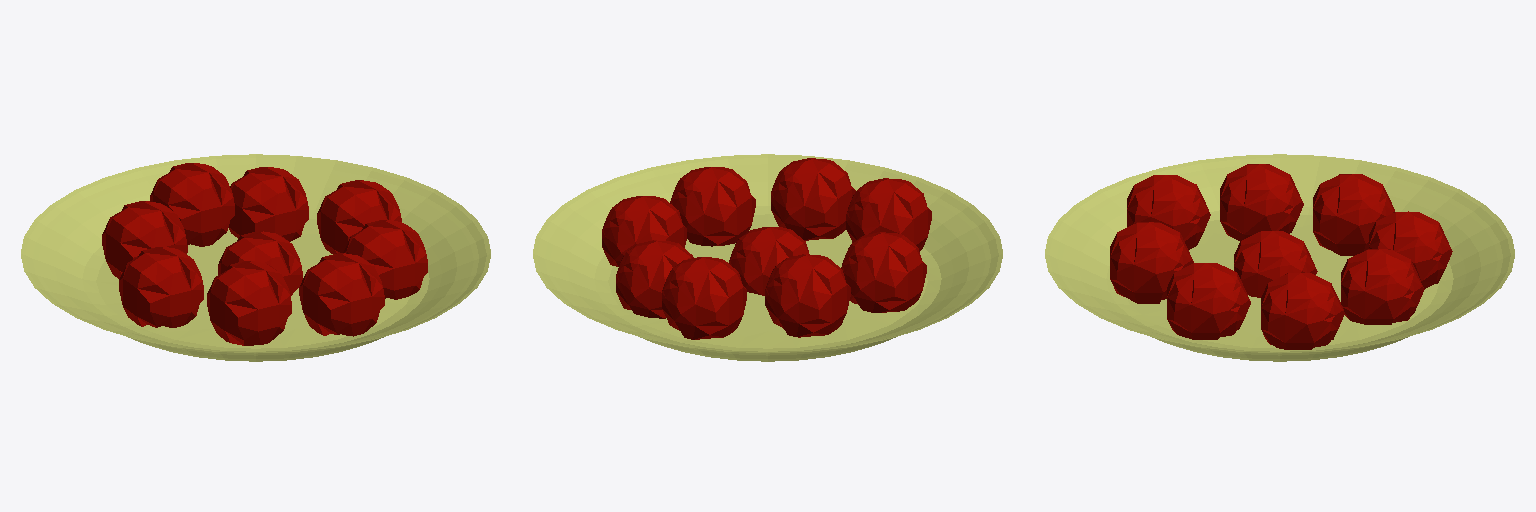
File: kremes.obj
3 views of the same model, side by side, from view 1: azimuth 30°, elevation 25°; view 2: azimuth 150°, elevation 25°; view 3: azimuth 270°, elevation 25° (orthographic).
Parts seen in each view (by area): view 1: Cylinder, Sphere.003, Sphere.004, Sphere.002, Sphere, Sphere.007, Sphere.005, Sphere.001, Sphere.006, Sphere.008; view 2: Cylinder, Sphere.001, Sphere, Sphere.002, Sphere.004, Sphere.005, Sphere.003, Sphere.006, Sphere.007, Sphere.008; view 3: Cylinder, Sphere.006, Sphere.005, Sphere.007, Sphere.004, Sphere.002, Sphere.001, Sphere.003, Sphere, Sphere.008.
Part boxes in pixels (x1,y1,x2,y2): Cylinder: (21,154,490,361); Sphere.003: (207,261,291,345); Sphere.004: (299,253,384,336); Sphere.002: (119,247,203,327); Sphere: (150,163,234,246); Sphere.007: (228,167,308,241); Sphere.005: (343,220,427,299); Sphere.001: (102,201,187,278); Sphere.006: (317,180,401,253); Sphere.008: (218,231,302,295); Cylinder: (533,154,1002,361); Sphere.001: (765,254,850,337); Sphere: (662,257,746,339); Sphere.002: (841,232,926,312); Sphere.004: (771,158,855,240); Sphere.005: (670,167,755,246); Sphere.003: (846,178,931,251); Sphere.006: (602,196,686,266); Sphere.007: (616,240,693,318); Sphere.008: (729,227,809,295); Cylinder: (1045,154,1514,361); Sphere.006: (1261,273,1344,349); Sphere.005: (1167,263,1250,339); Sphere.007: (1341,249,1424,324); Sphere.004: (1110,222,1193,303); Sphere.002: (1220,164,1303,240); Sphere.001: (1313,174,1394,255); Sphere.003: (1127,175,1210,249); Sphere: (1369,211,1452,288); Sphere.008: (1234,231,1317,297).
Size of the model in its own units: 2.31 by 0.5478 by 2.31.